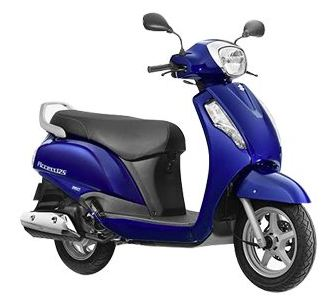bike: (18, 12, 316, 294)
